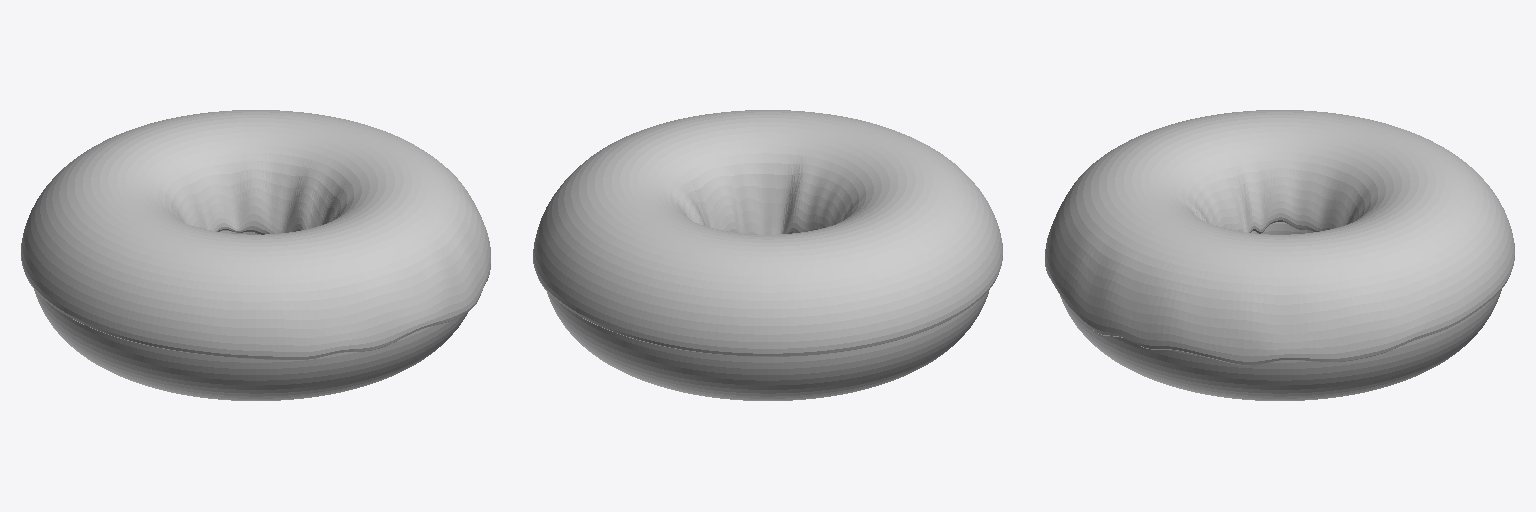
The model's file is donut1.obj.
3 views of the same model, side by side, from view 1: azimuth 30°, elevation 25°; view 2: azimuth 150°, elevation 25°; view 3: azimuth 270°, elevation 25° (orthographic).
Visible parts, largest first — view 1: Torus.001, Torus; view 2: Torus.001, Torus; view 3: Torus.001, Torus.
Boxes of the visible parts, x1=… form: Torus.001: x1=21, y1=110, x2=490, y2=359; Torus: x1=34, y1=231, x2=467, y2=400; Torus.001: x1=533, y1=110, x2=1002, y2=356; Torus: x1=547, y1=209, x2=988, y2=400; Torus.001: x1=1045, y1=110, x2=1514, y2=365; Torus: x1=1060, y1=222, x2=1501, y2=400.
Size of the model in its own units: 1.46 by 0.5186 by 1.46.